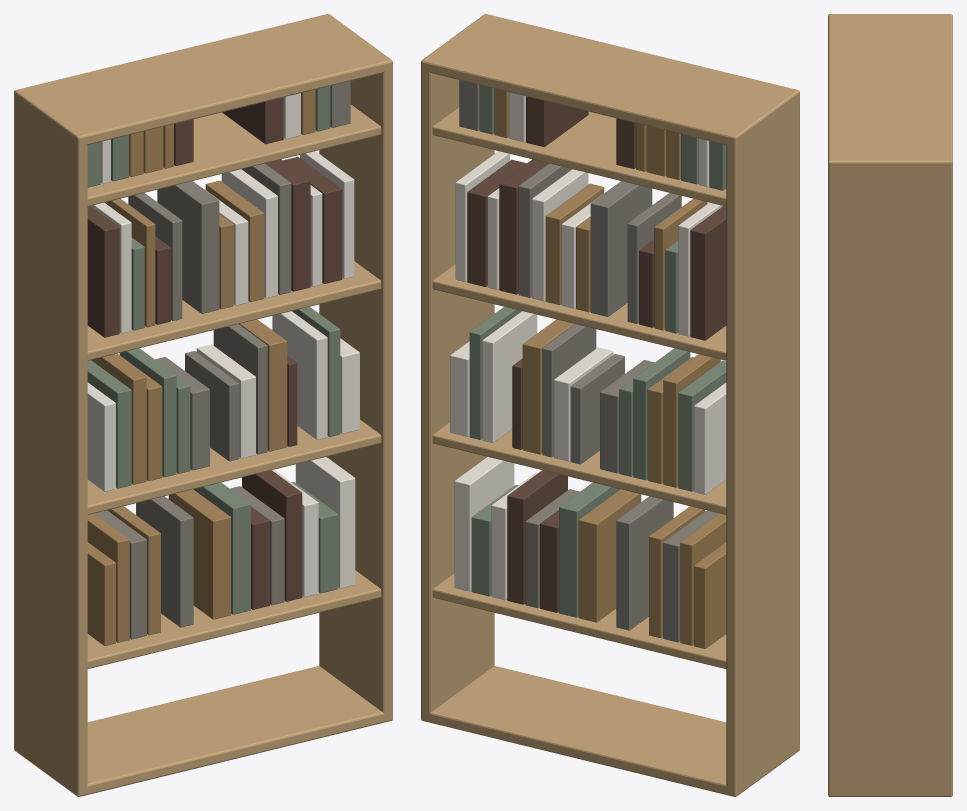
The model's file is bookshelf.glb.
The picture shows the model from 3 angles, left to right: view 1: azimuth 30°, elevation 25°; view 2: azimuth 150°, elevation 25°; view 3: azimuth 270°, elevation 25°; orthographic projection. The views are drawn at different scales.
Parts seen in each view (by area): view 1: sideL, sideR, top.007, bottom, shelf3, shelf0, shelf1, shelf2, bk2_6, bk0_5, bk0_4, bk1_12 (+47 smaller); view 2: sideL, sideR, top.007, bottom, shelf3, bk2_6, shelf0, shelf1, shelf2, bk0_5, bk0_4, bk2_0 (+50 smaller); view 3: sideR, top.007.
Boxes of the visible parts, x1=… form: sideL: x1=14, y1=89, x2=87, y2=796; sideR: x1=319, y1=14, x2=392, y2=721; top.007: x1=16, y1=14, x2=392, y2=145; bottom: x1=78, y1=666, x2=392, y2=796; shelf3: x1=87, y1=104, x2=381, y2=206; shelf0: x1=87, y1=570, x2=381, y2=668; shelf1: x1=87, y1=419, x2=381, y2=514; shelf2: x1=87, y1=261, x2=381, y2=360; bk2_6: x1=157, y1=181, x2=219, y2=313; bk0_5: x1=168, y1=489, x2=230, y2=619; bk0_4: x1=136, y1=496, x2=193, y2=627; bk1_12: x1=272, y1=311, x2=327, y2=439; sideL: x1=726, y1=89, x2=799, y2=796; sideR: x1=421, y1=14, x2=494, y2=721; top.007: x1=421, y1=14, x2=797, y2=145; bottom: x1=425, y1=666, x2=735, y2=795; shelf3: x1=432, y1=107, x2=726, y2=206; bk2_6: x1=590, y1=181, x2=652, y2=316; shelf0: x1=432, y1=573, x2=726, y2=668; shelf1: x1=432, y1=422, x2=726, y2=514; shelf2: x1=432, y1=264, x2=726, y2=360; bk0_5: x1=578, y1=489, x2=641, y2=622; bk0_4: x1=616, y1=496, x2=673, y2=630; bk2_0: x1=690, y1=206, x2=726, y2=340; sideR: x1=828, y1=157, x2=952, y2=796; top.007: x1=828, y1=14, x2=952, y2=170.
Size of the model in its own units: 0.9 by 1.8 by 0.32.
